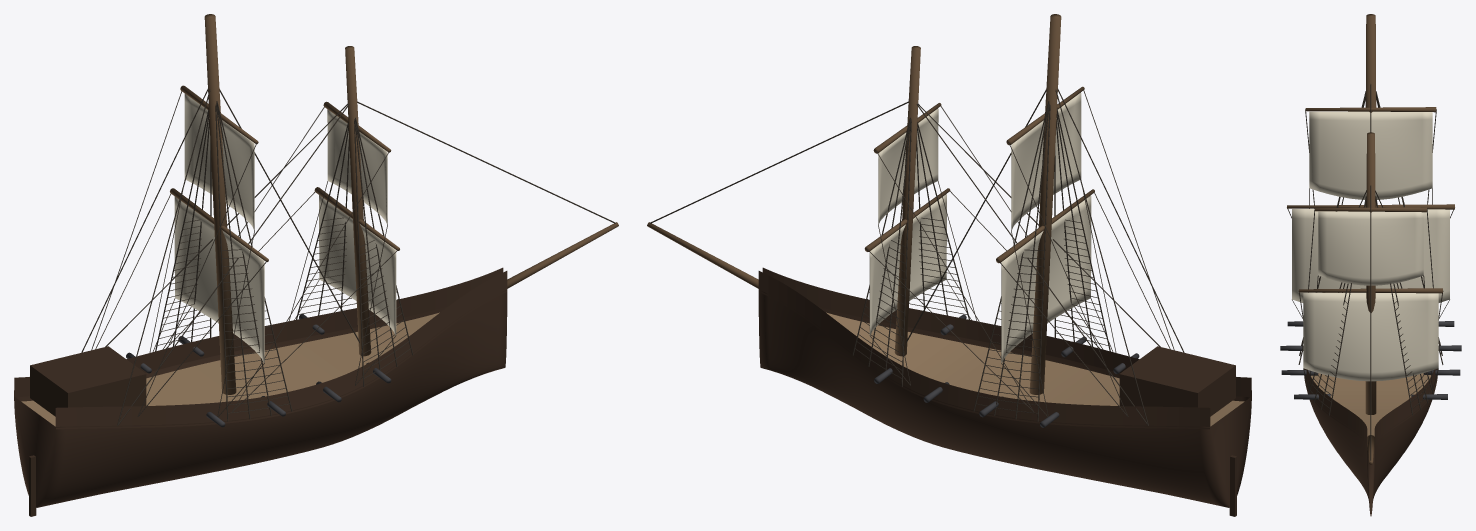
Rendered from SM_PirateShip.fbx.
The picture shows the model from 3 angles, left to right: view 1: azimuth 30°, elevation 25°; view 2: azimuth 150°, elevation 25°; view 3: azimuth 270°, elevation 25°; orthographic projection. The views are drawn at different scales.
Parts seen in each view (by area): view 1: SM_PirateShip; view 2: SM_PirateShip; view 3: SM_PirateShip.
Boxes of the visible parts, box(x1,y1,x2,y2) form: SM_PirateShip: box(14, 14, 618, 516); SM_PirateShip: box(647, 14, 1251, 516); SM_PirateShip: box(1280, 14, 1461, 516).
Size of the model in its own units: 3753 by 2780 by 1135.
